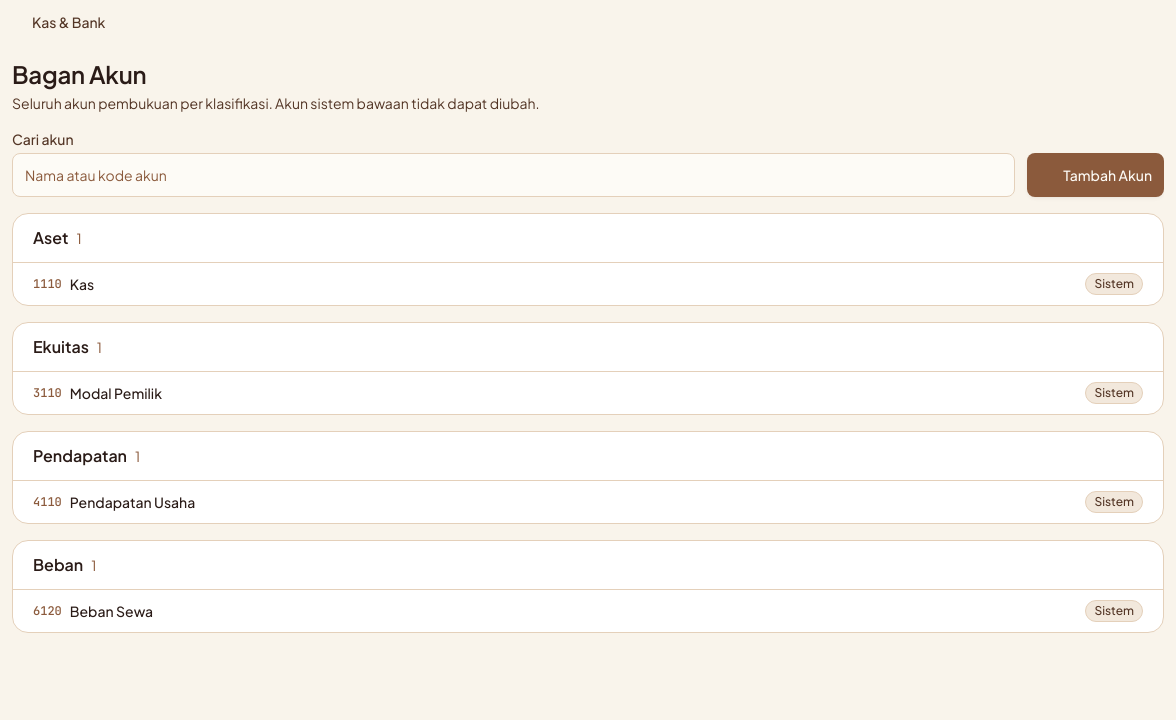
ChartOfAccountsPage › grup klasifikasi bisa dilipat
Expected: the text "4110" is shown, [33, 494, 62, 510]
Click the button "Pendapatan1".
click(80, 455)  # box [13, 432, 1163, 480]
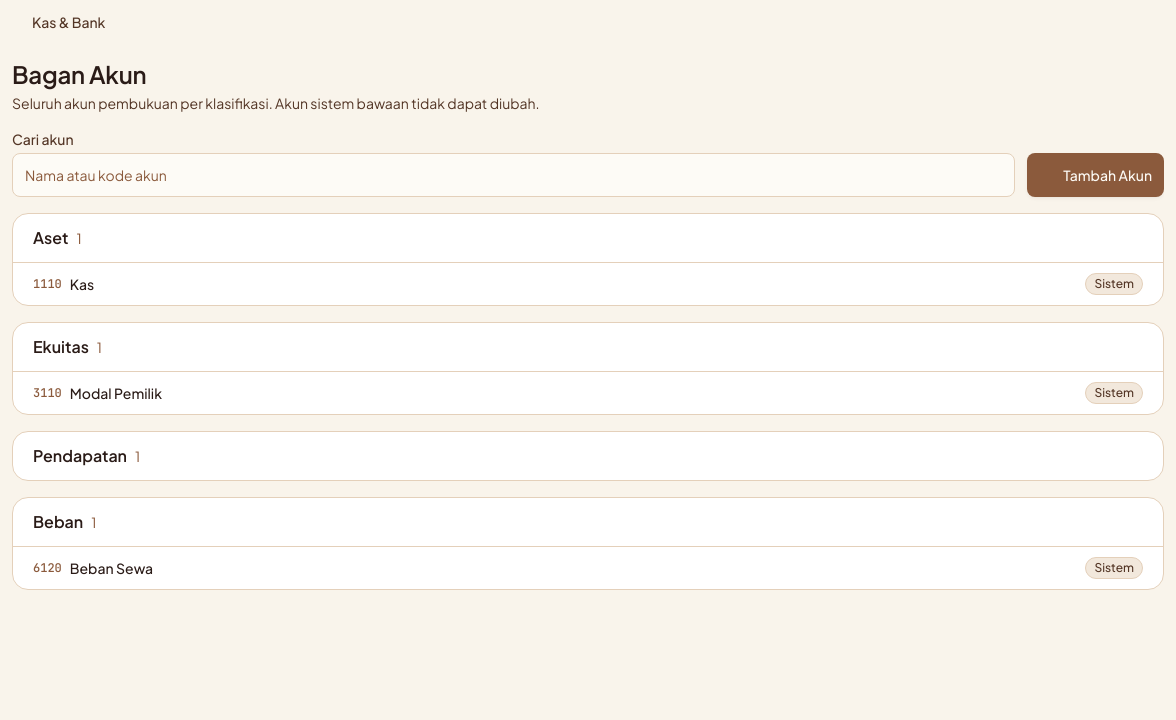
Now the text "4110" is gone
